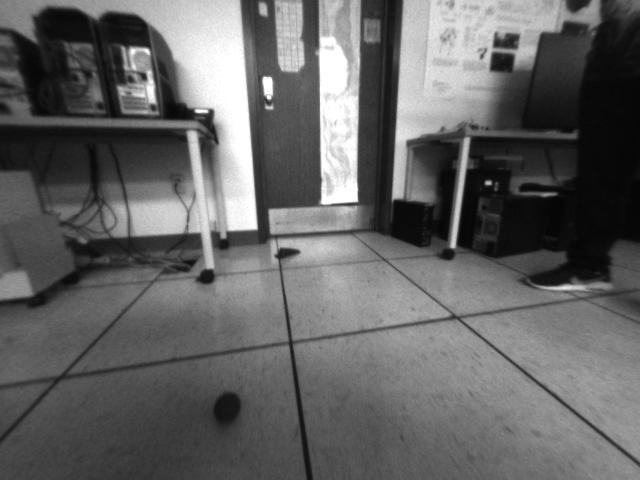dogtoy: (205, 382, 245, 429)
